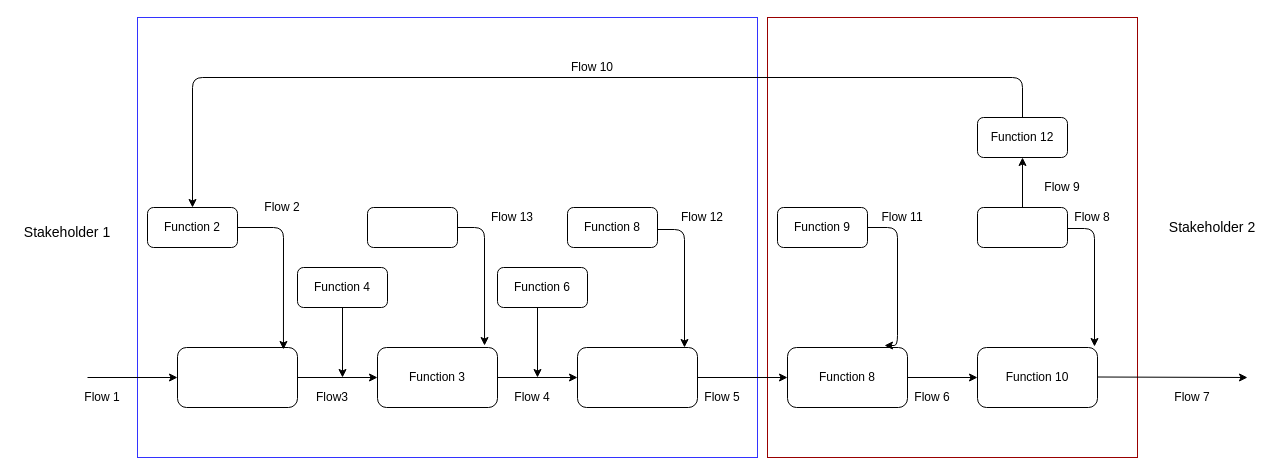
Image size: 1284x475. Some labels were removed from this diagram. Each missing label, with the centre of its shape:
"Function 1" goes at point 237,377.
"Function 11" goes at point 1022,227.
"Function 5" goes at point 412,227.
"Function 7" goes at point 637,377.
